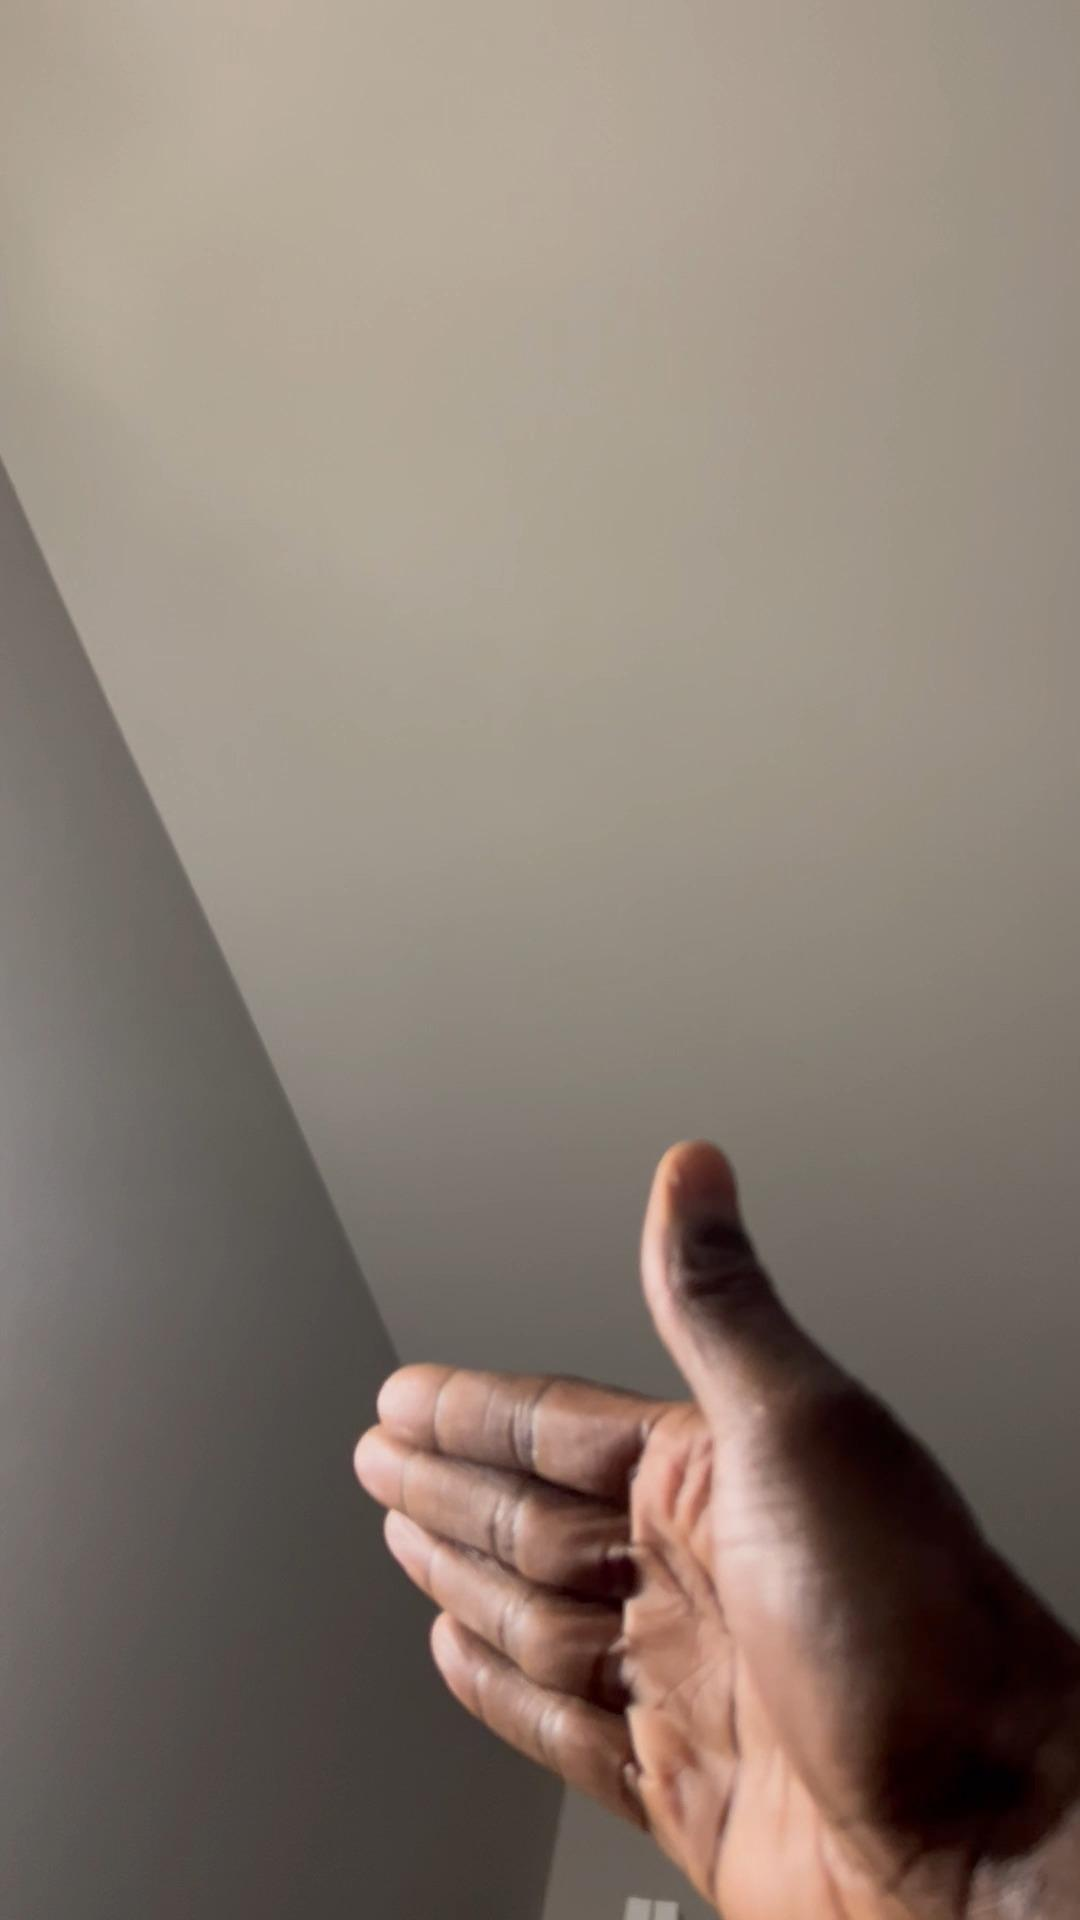Paper: (356, 1130, 1043, 1920)
